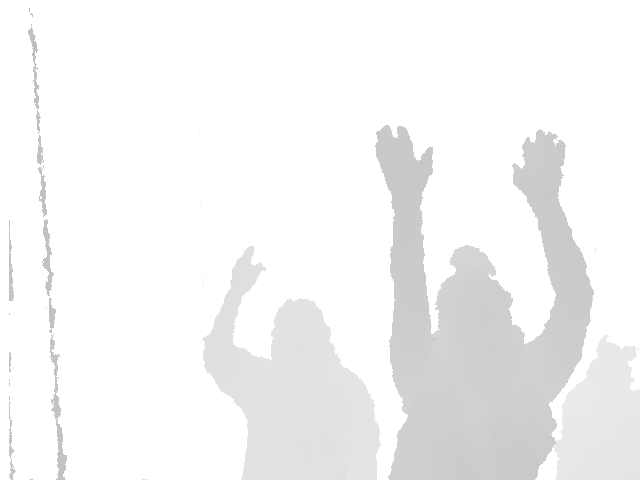hand: (374, 125, 433, 198), (511, 131, 567, 201), (229, 244, 266, 292)
head: (435, 246, 513, 367), (269, 298, 331, 371)
person: (373, 125, 595, 479), (202, 244, 381, 480)
